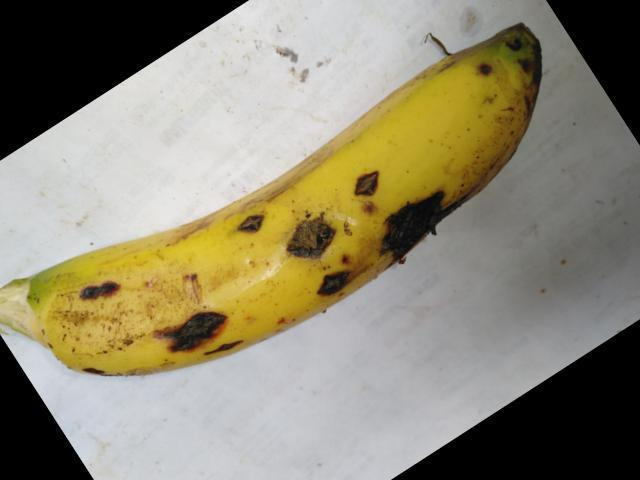rotten: (378, 182, 473, 275), (265, 196, 355, 264), (176, 302, 256, 377), (213, 192, 271, 254), (54, 270, 120, 317), (301, 257, 352, 299), (346, 153, 390, 197)
